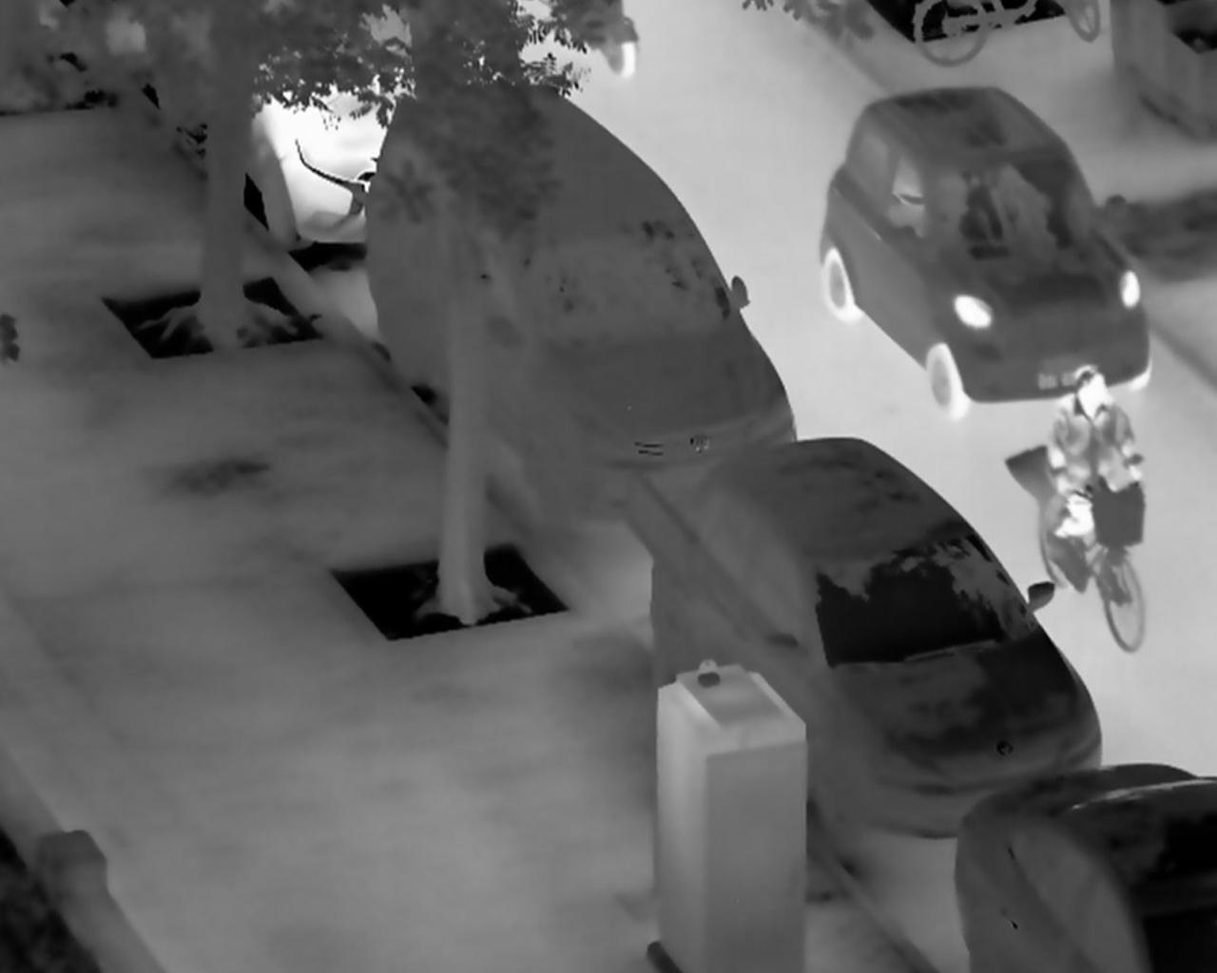person: (1043, 365, 1146, 565)
